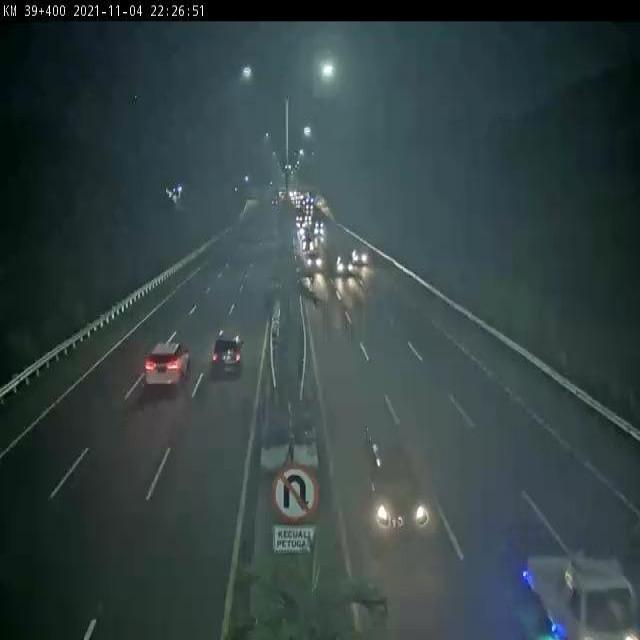car: (364, 424, 429, 540), (144, 340, 191, 389), (210, 338, 245, 378)
truck-s-: (525, 549, 640, 640)
